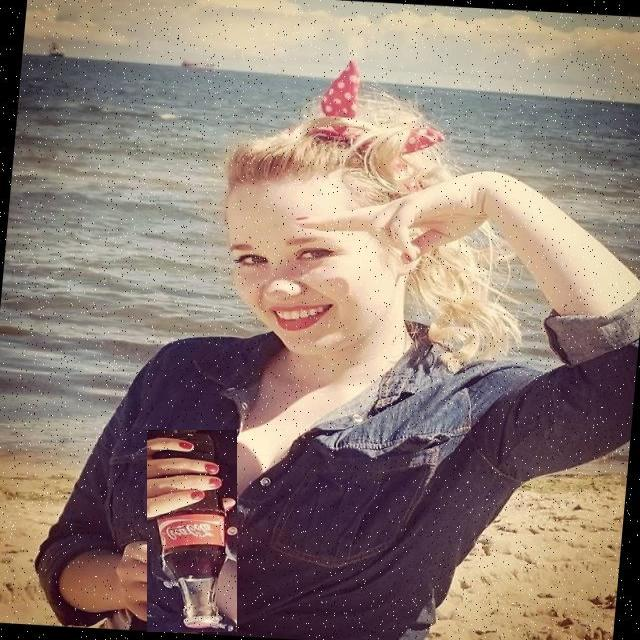coca-cola: (147, 430, 237, 632)
